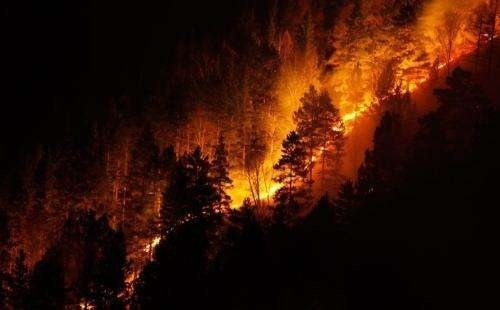fire: (234, 4, 497, 217)
